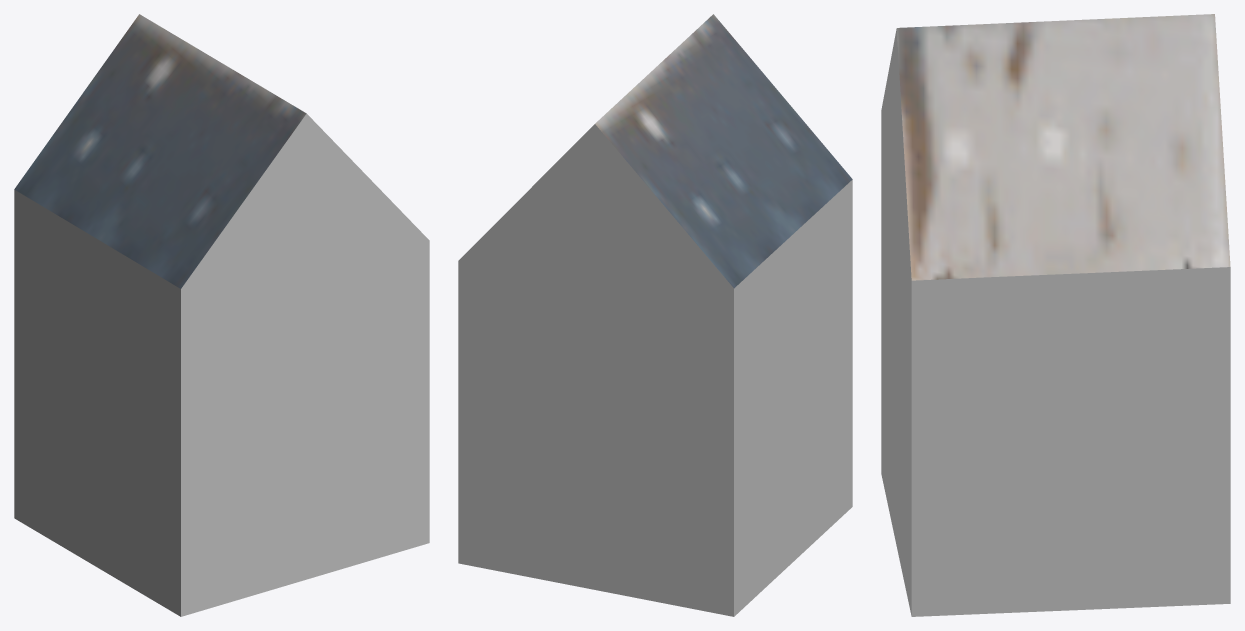
Rendered from DEBW_0010007Tx8L.gltf.
3 views of the same model, side by side, from view 1: azimuth 30°, elevation 25°; view 2: azimuth 150°, elevation 25°; view 3: azimuth 270°, elevation 25° (orthographic). The views are drawn at different scales.
Parts seen in each view (by area): view 1: Z_UP; view 2: Z_UP; view 3: Z_UP.
Boxes of the visible parts, <box> form: Z_UP: <box>14,14,429,616</box>; Z_UP: <box>458,14,852,616</box>; Z_UP: <box>881,14,1230,616</box>.
Size of the model in its own units: 12.55 by 19.55 by 11.91.
Materials: 2 (1 with a texture image).
